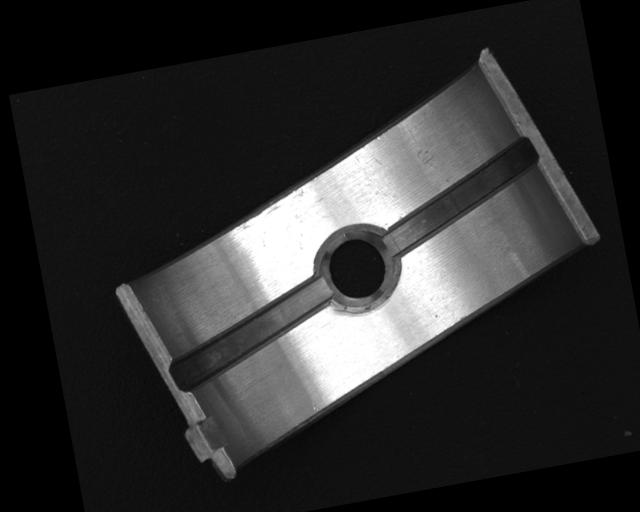gap: (367, 135, 552, 258), (160, 274, 341, 391)
hole: (313, 222, 401, 315)
